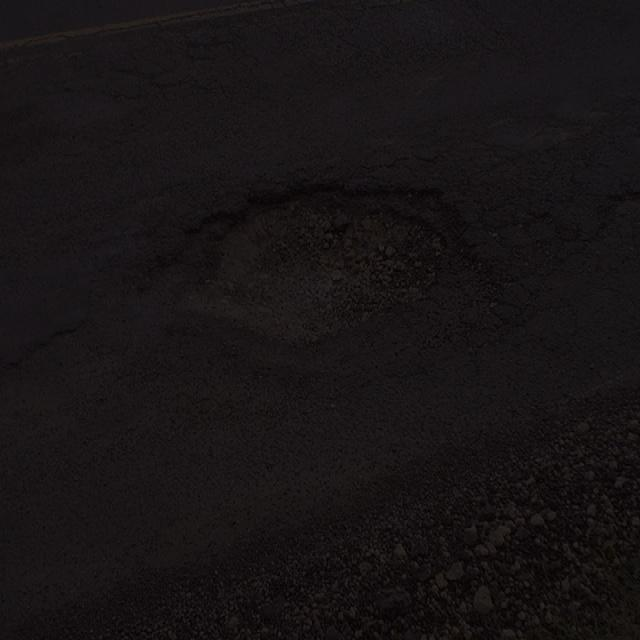Pothole: (130, 176, 500, 363)
